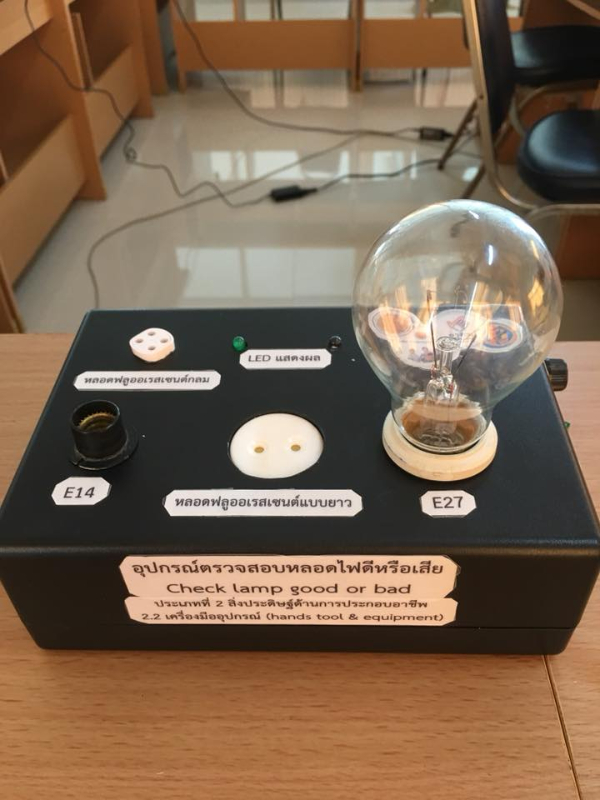Light_bulb: (346, 189, 573, 475)
